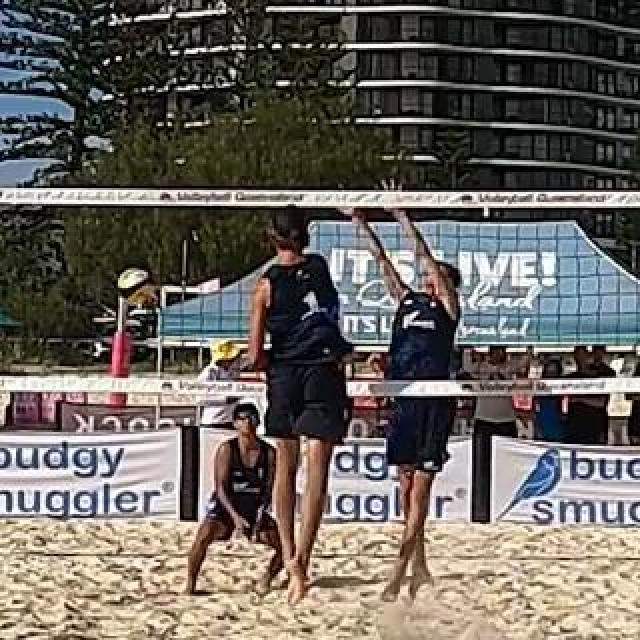volleyball: (564, 396, 608, 440), (119, 267, 155, 301)
